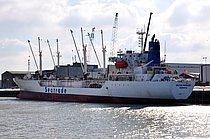Ship: (8, 33, 202, 107)
